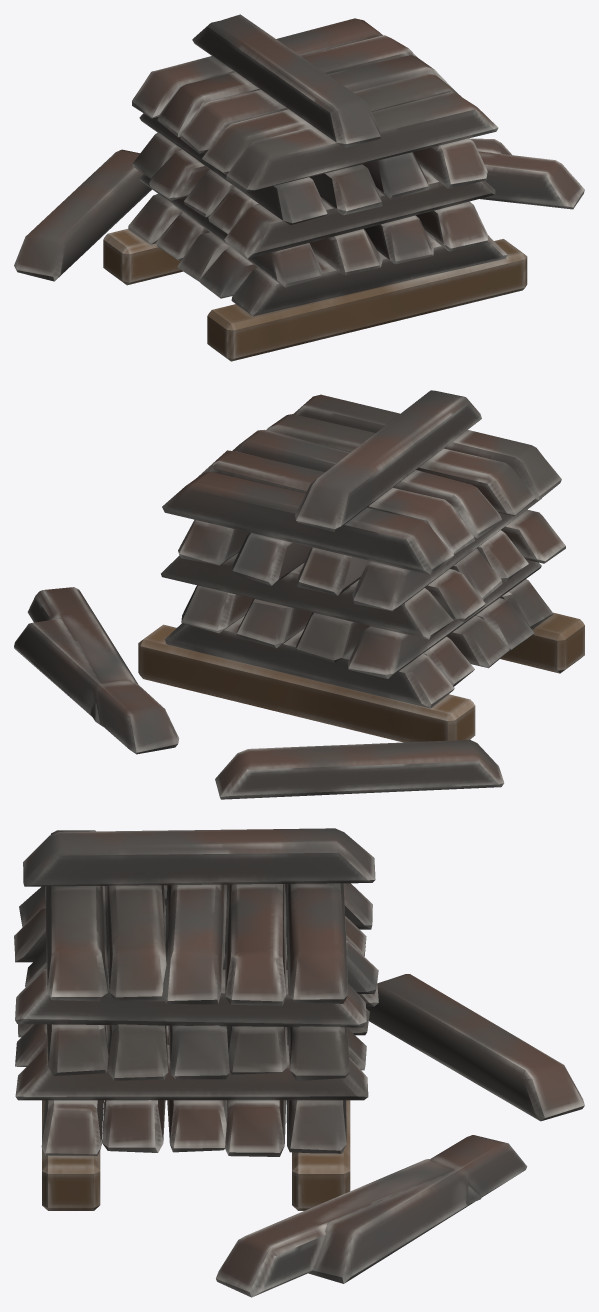
The model's file is foundry_ingot_stack.glb.
3 views of the same model, one above another, from view 1: azimuth 30°, elevation 25°; view 2: azimuth 150°, elevation 25°; view 3: azimuth 270°, elevation 25° (orthographic). The views are drawn at different scales.
Parts seen in each view (by area): view 1: foundry_ingot_stack; view 2: foundry_ingot_stack; view 3: foundry_ingot_stack.
Part boxes in pixels (left/top/right/bottom): foundry_ingot_stack: left=14, top=14, right=584, bottom=361; foundry_ingot_stack: left=14, top=390, right=584, bottom=799; foundry_ingot_stack: left=14, top=828, right=584, bottom=1297.
Size of the model in its own units: 1.69 by 0.7268 by 1.37.
1 material, 1 textured.
